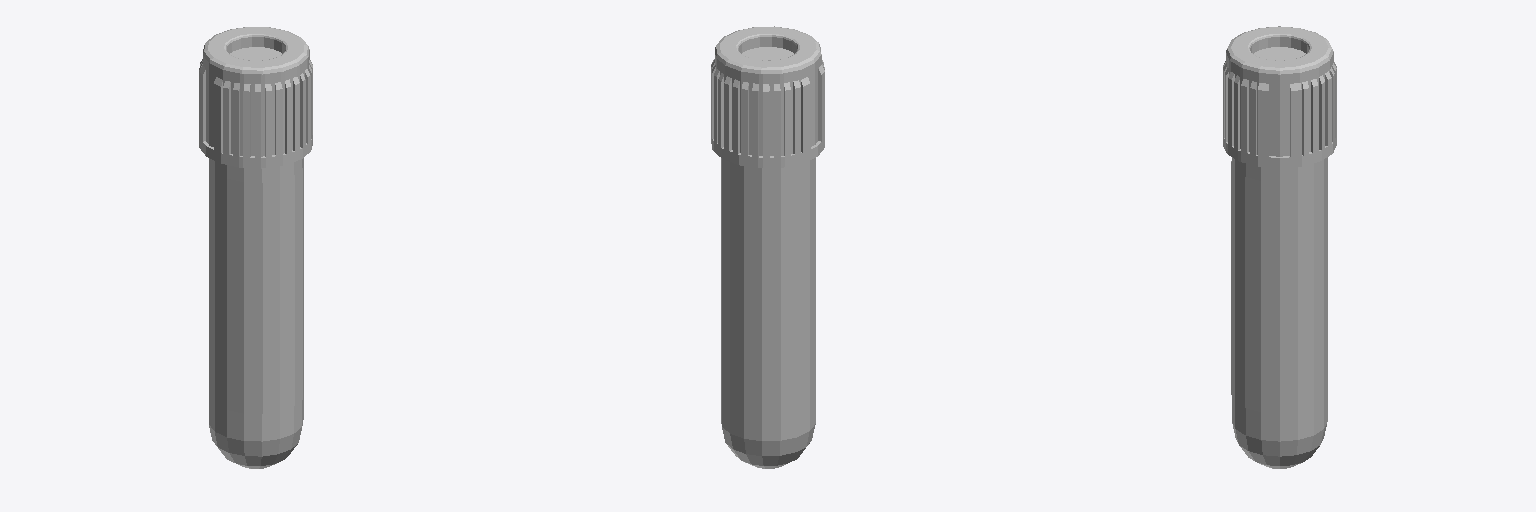
The model's file is khalilAnderson_vial.013.obj.
3 renders of one model, left to right at view 1: azimuth 30°, elevation 25°; view 2: azimuth 150°, elevation 25°; view 3: azimuth 270°, elevation 25°, orthographic.
Size of the model in its own units: 0.8674 by 3.47 by 0.8641.